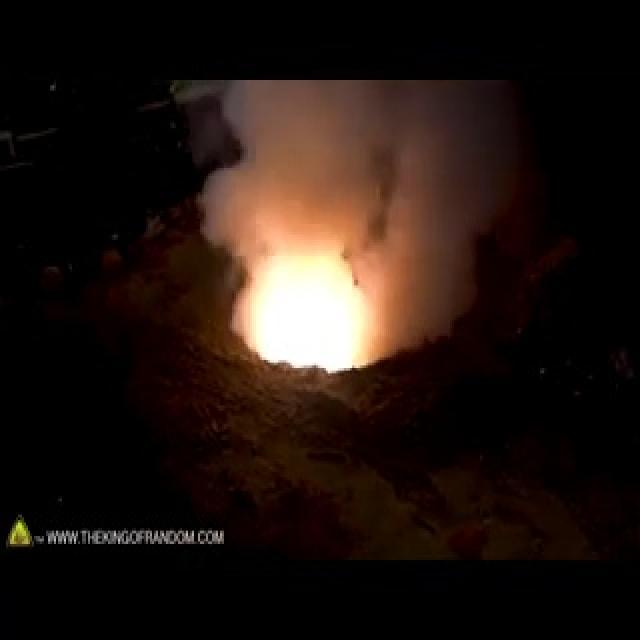fire: (223, 192, 377, 368)
